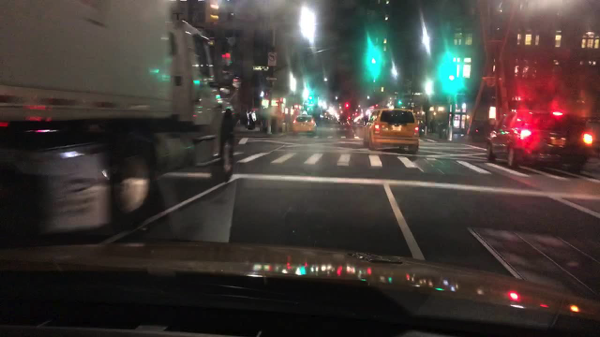car: (484, 110, 591, 175), (363, 109, 419, 153), (291, 110, 317, 137), (470, 124, 494, 143), (344, 121, 350, 125), (335, 121, 340, 125)
person: (0, 1, 240, 233), (220, 109, 240, 171), (246, 108, 252, 129), (248, 110, 254, 130), (251, 110, 256, 129)
traffic light: (205, 1, 221, 25), (445, 72, 455, 84), (221, 48, 231, 58), (369, 56, 377, 67), (397, 97, 402, 107), (307, 96, 313, 102), (374, 103, 379, 109), (345, 103, 349, 108), (347, 116, 350, 120)
traffic sign: (267, 52, 275, 66), (252, 67, 270, 72), (265, 76, 277, 81)
